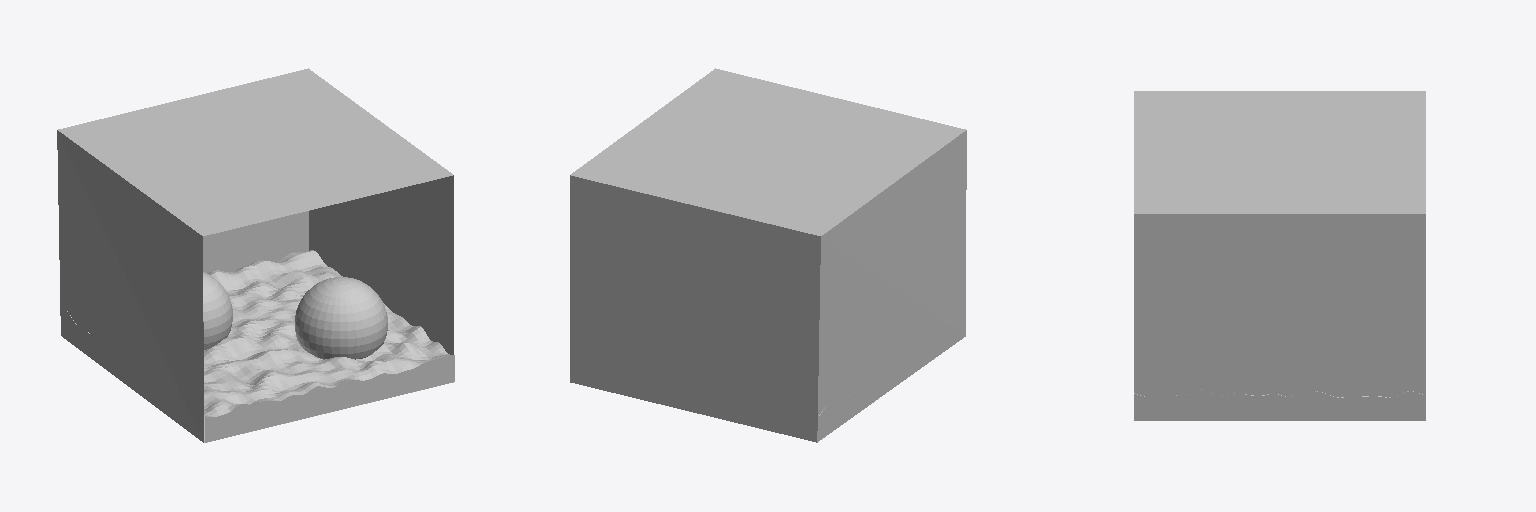
File: cornell_box_water.obj
3 views of the same model, side by side, from view 1: azimuth 30°, elevation 25°; view 2: azimuth 150°, elevation 25°; view 3: azimuth 270°, elevation 25° (orthographic).
Visible parts, largest first — view 1: ceiling, leftWall, water, rightWall, rightSphere, backWall, leftSphere; view 2: backWall, ceiling, leftWall; view 3: rightWall, ceiling.
Part boxes in pixels (bbox=[...]): ceiling: bbox=[58, 68, 452, 235]; leftWall: bbox=[57, 130, 203, 442]; water: bbox=[67, 250, 454, 442]; rightWall: bbox=[309, 175, 453, 354]; rightSphere: bbox=[295, 277, 387, 359]; backWall: bbox=[203, 211, 308, 272]; leftSphere: bbox=[203, 272, 232, 349]; backWall: bbox=[570, 175, 820, 442]; ceiling: bbox=[571, 68, 965, 235]; leftWall: bbox=[817, 130, 966, 442]; rightWall: bbox=[1134, 214, 1425, 420]; ceiling: bbox=[1134, 91, 1425, 213].
Bounding box in the file's own units: 2.02 × 1.59 × 2.03.